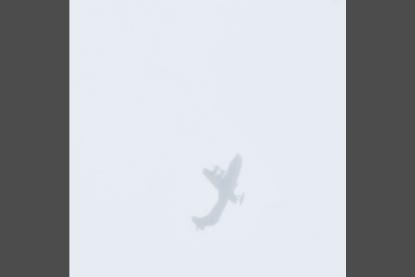Tu95: (191, 152, 244, 232)
